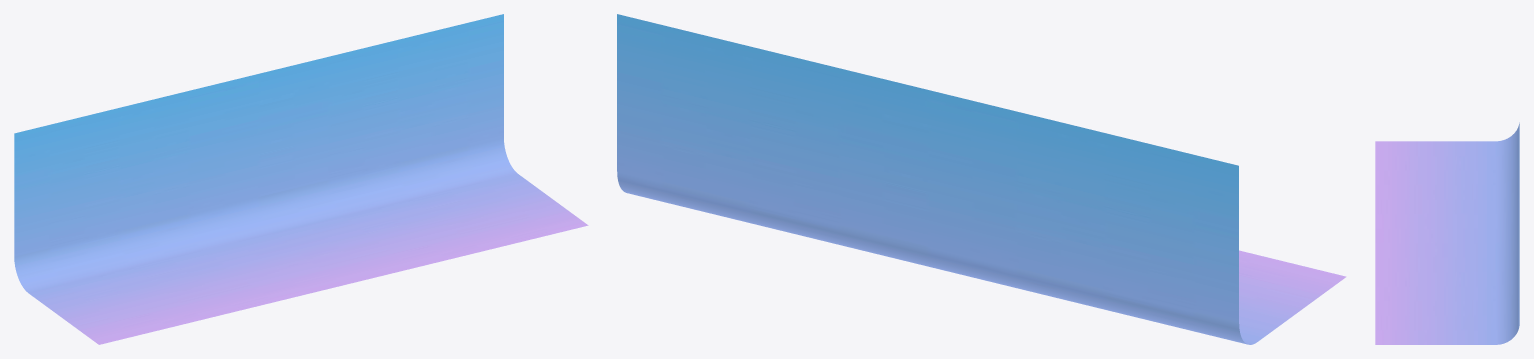
Rendered from PROP_BG_GRADIENT.glb.
3 renders of one model, left to right at view 1: azimuth 30°, elevation 25°; view 2: azimuth 150°, elevation 25°; view 3: azimuth 270°, elevation 25°, orthographic. The views are drawn at different scales.
Parts seen in each view (by area): view 1: PROP_BG_GRADIENT_0; view 2: PROP_BG_GRADIENT_0; view 3: PROP_BG_GRADIENT_0.
Boxes of the visible parts, <box> form: PROP_BG_GRADIENT_0: <box>14,14,588,344</box>; PROP_BG_GRADIENT_0: <box>617,14,1346,344</box>; PROP_BG_GRADIENT_0: <box>1375,122,1519,344</box>.
Bounding box in the file's own units: 48 × 14 × 14.4.
1 material, 1 textured.
